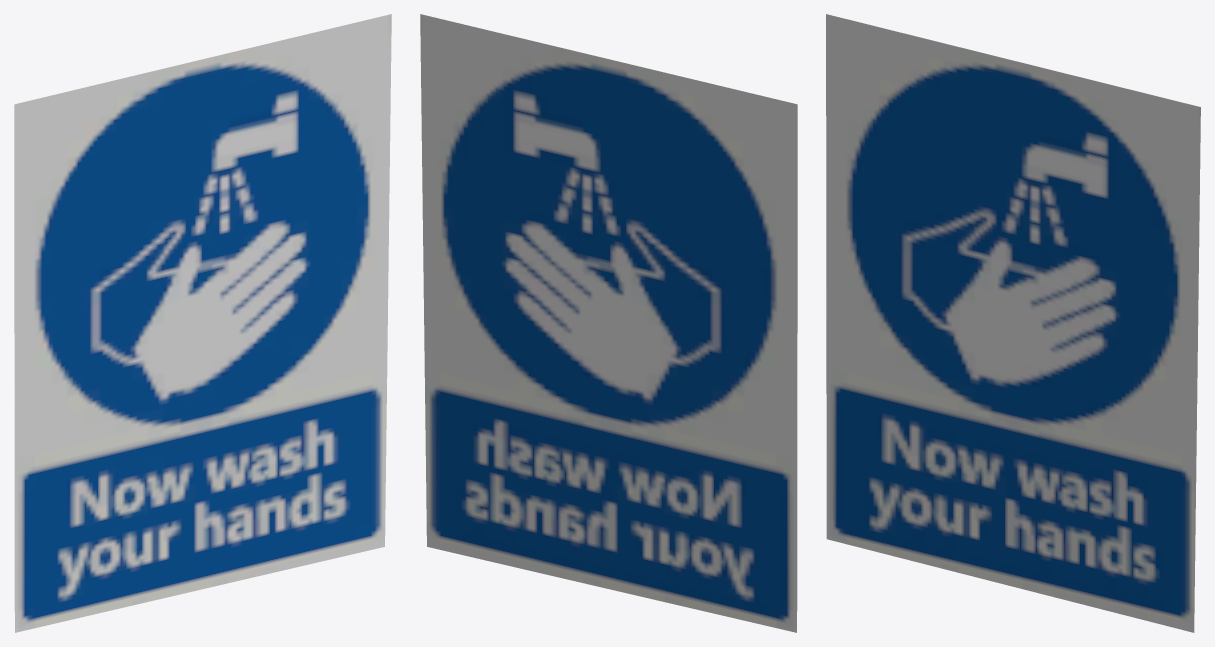
File: SM_Sign_Wash_Hands_02.glb
3 views of the same model, side by side, from view 1: azimuth 30°, elevation 25°; view 2: azimuth 150°, elevation 25°; view 3: azimuth 330°, elevation 25° (orthographic).
Visible parts, largest first — view 1: SM_Sign_Wash_Hands_02; view 2: SM_Sign_Wash_Hands_02; view 3: SM_Sign_Wash_Hands_02.
Boxes of the visible parts, <box> form: SM_Sign_Wash_Hands_02: <box>14,14,391,632</box>; SM_Sign_Wash_Hands_02: <box>420,14,797,632</box>; SM_Sign_Wash_Hands_02: <box>826,14,1200,632</box>.
Size of the model in its own units: 0.2099 by 0.2831 by 4.66e-08.
Materials: 1 (1 with a texture image).
